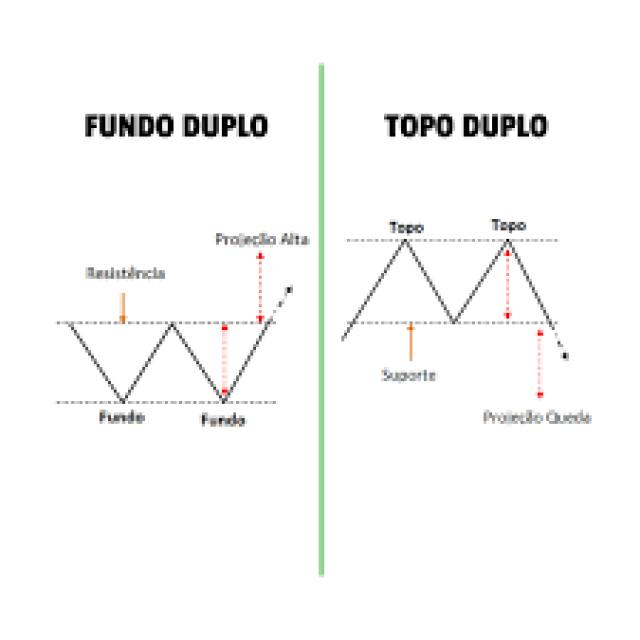fundo_duplo: (54, 314, 283, 409)
topo_duplo: (354, 234, 564, 321)
